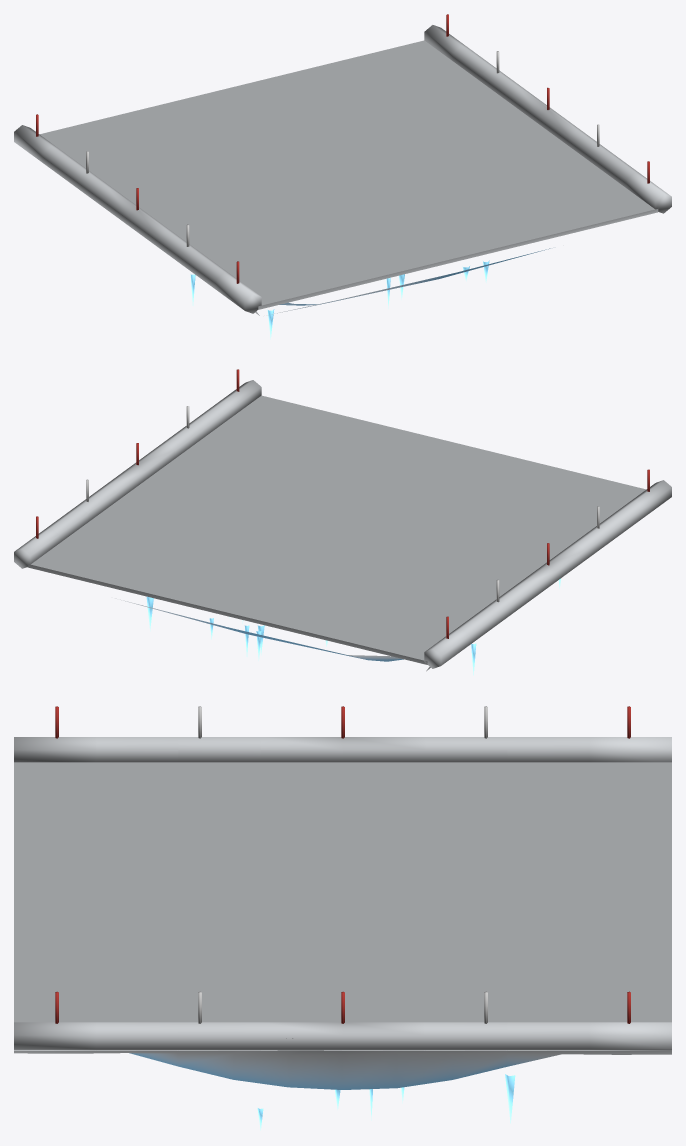
Rendered from prop.glacier_snowbridge.glb.
3 views of the same model, one above another, from view 1: azimuth 30°, elevation 25°; view 2: azimuth 150°, elevation 25°; view 3: azimuth 270°, elevation 25° (orthographic). The views are drawn at different scales.
Visible parts, largest first — view 1: deck, glacier_snowbridge; view 2: deck, glacier_snowbridge; view 3: deck, glacier_snowbridge.
Part boxes in pixels (x1,y1,x2,y2): deck: (40, 40, 658, 309); glacier_snowbridge: (14, 14, 671, 339); deck: (27, 395, 646, 664); glacier_snowbridge: (14, 369, 671, 675); deck: (14, 762, 671, 1022); glacier_snowbridge: (14, 706, 671, 1130).
Size of the model in its own units: 24.56 by 8.06 by 23.
